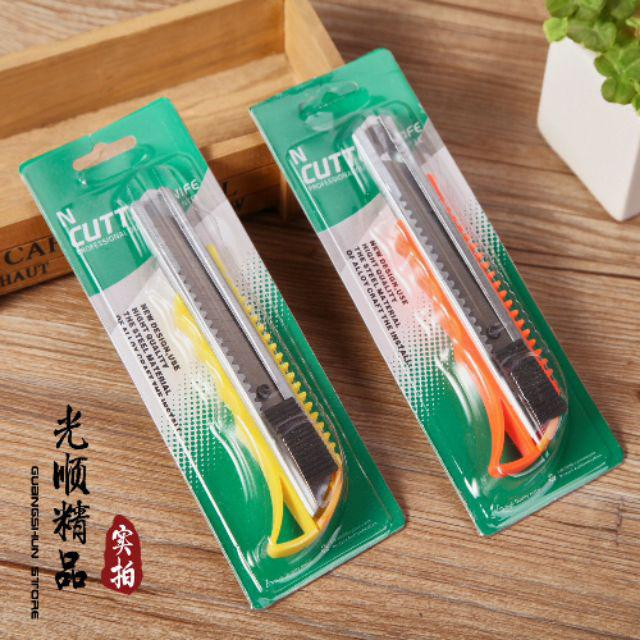cutter: (126, 185, 349, 558), (349, 111, 571, 478)
